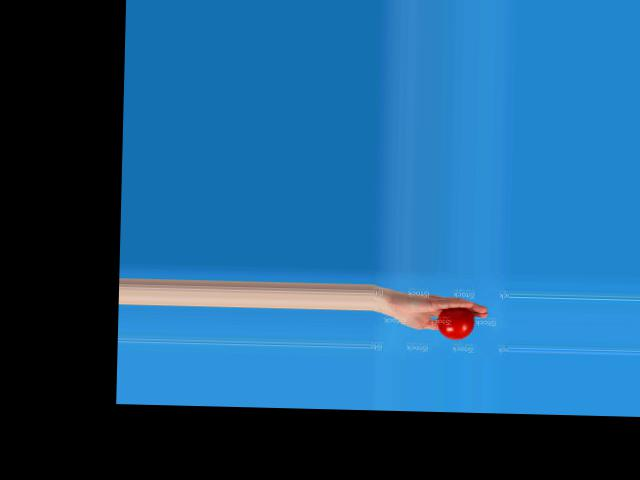tomato: (437, 307, 474, 339)
